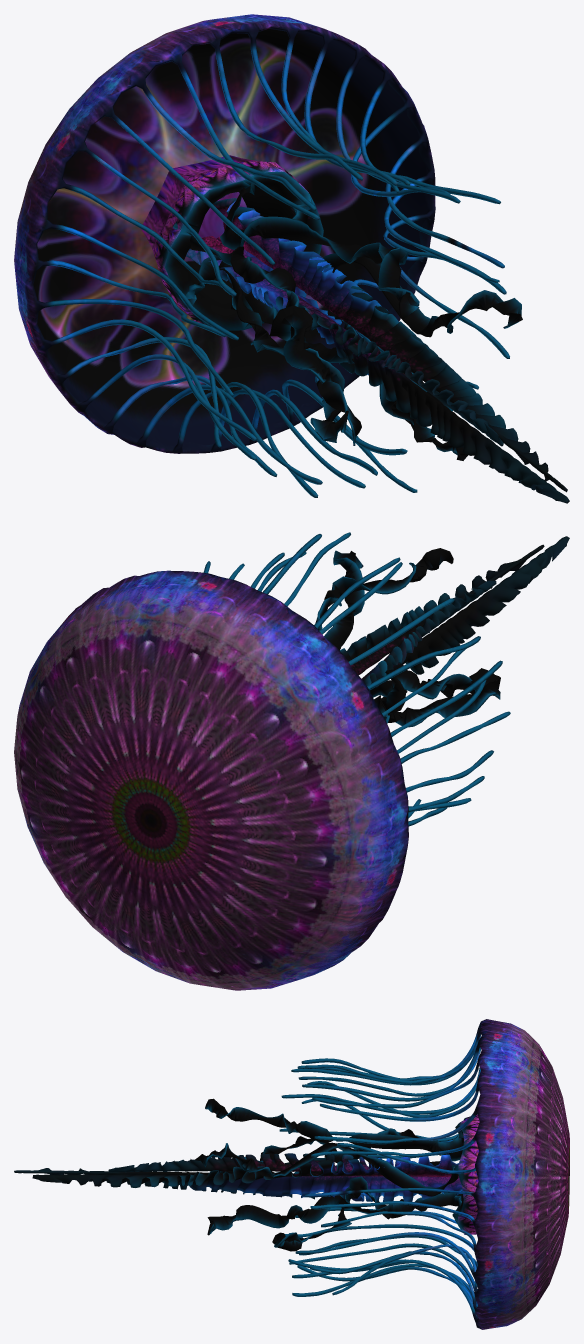
File: jellyf.gltf
3 views of the same model, one above another, from view 1: azimuth 30°, elevation 25°; view 2: azimuth 150°, elevation 25°; view 3: azimuth 270°, elevation 25° (orthographic). The views are drawn at different scales.
Parts seen in each view (by area): view 1: model_0; view 2: model_0; view 3: model_0.
Boxes of the visible parts, bbox=[...] form: model_0: bbox=[14, 14, 569, 503]; model_0: bbox=[14, 532, 569, 990]; model_0: bbox=[14, 1019, 569, 1329].
Bounding box in the file's own units: 3.56 × 3.56 × 6.37.
Materials: 1 (1 with a texture image).
